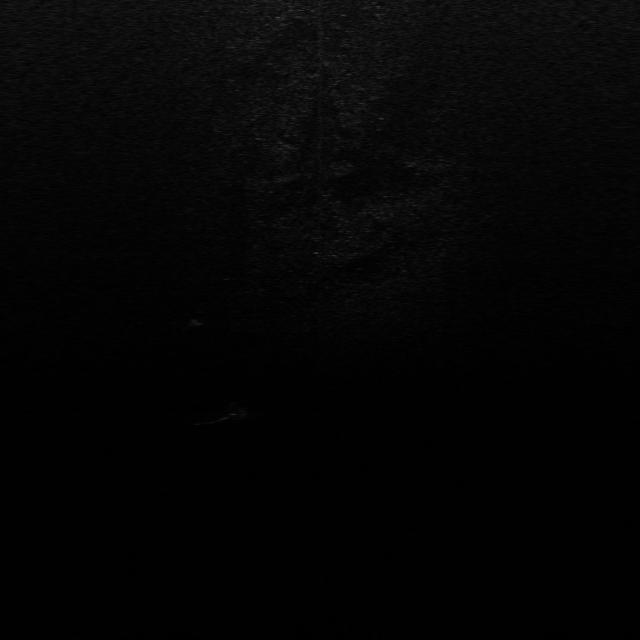ball: (219, 400, 252, 422)
circle cage: (183, 308, 211, 329)
